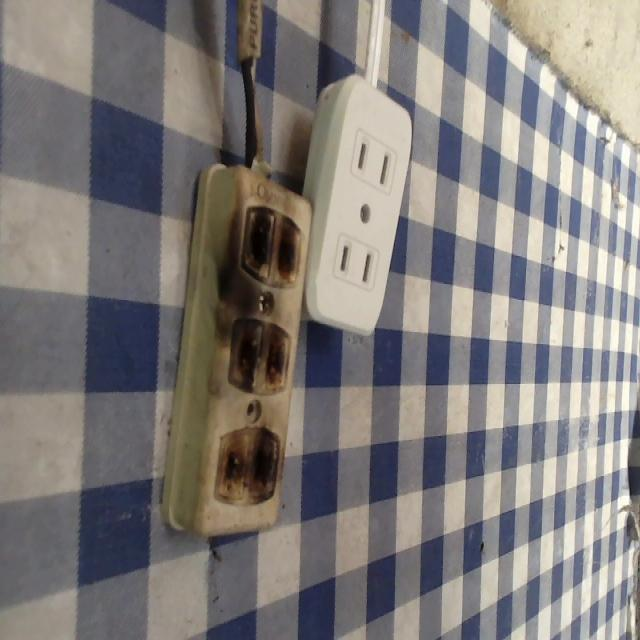-: (242, 196, 304, 284), (229, 310, 295, 386), (213, 428, 281, 500)
